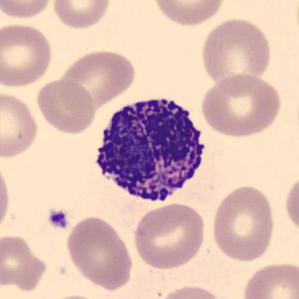Basophil: (85, 87, 216, 212)
Platelets: (45, 206, 69, 230)
RBC: (199, 72, 284, 139), (64, 213, 135, 292), (210, 182, 278, 263), (130, 201, 208, 271), (199, 15, 274, 87), (57, 47, 138, 107), (0, 20, 55, 89), (34, 78, 97, 136), (0, 233, 48, 294), (0, 89, 41, 160), (240, 259, 298, 299), (148, 0, 228, 28), (50, 0, 113, 30), (0, 0, 56, 21), (155, 283, 227, 299), (283, 172, 299, 237), (0, 159, 13, 236), (42, 292, 110, 299)
